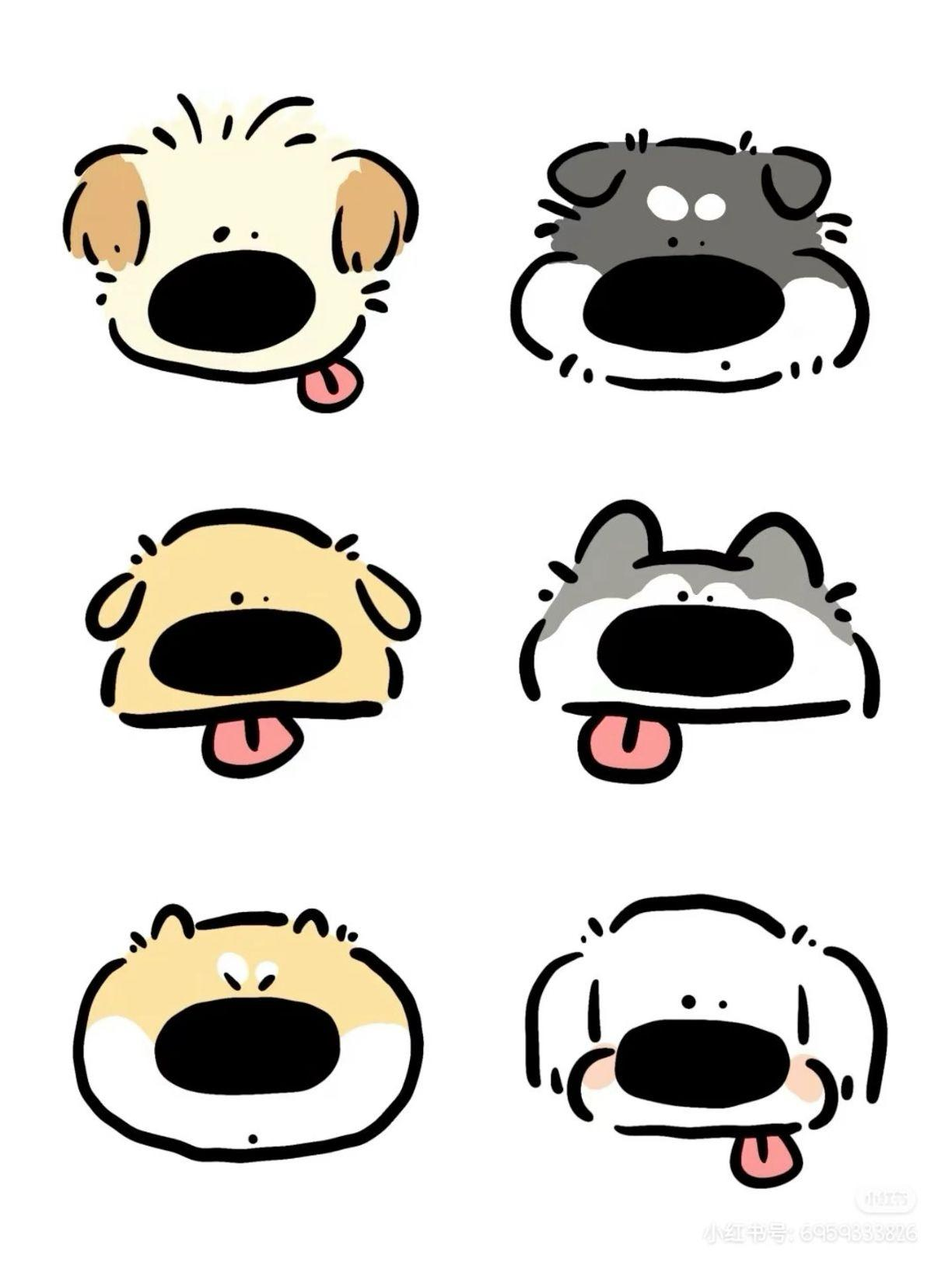non-dog: (61, 89, 425, 416), (520, 889, 891, 1192), (512, 495, 886, 788), (506, 126, 874, 397), (79, 501, 425, 783), (68, 897, 429, 1167)
